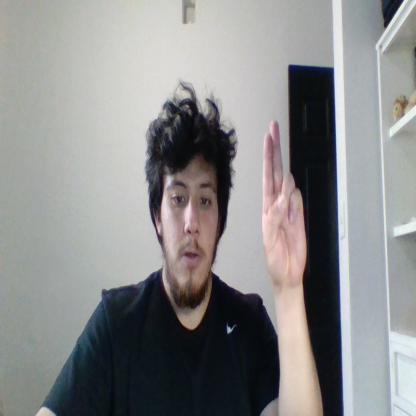U: (262, 119, 306, 286)
